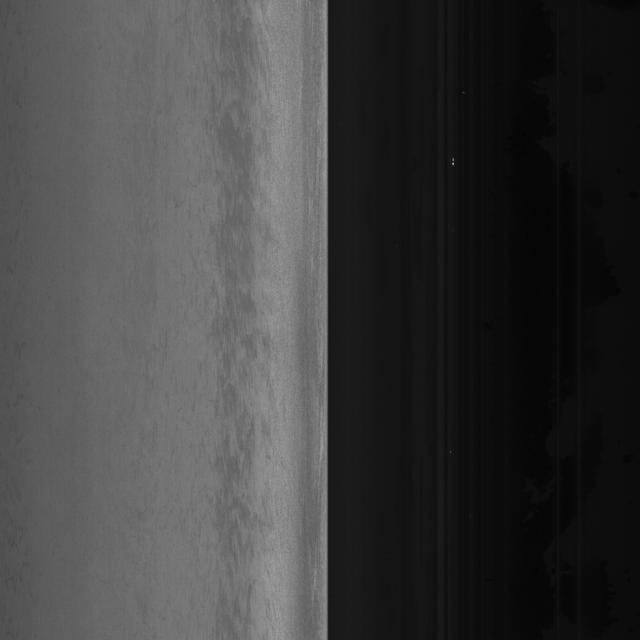inclusion: (219, 214, 278, 390)
